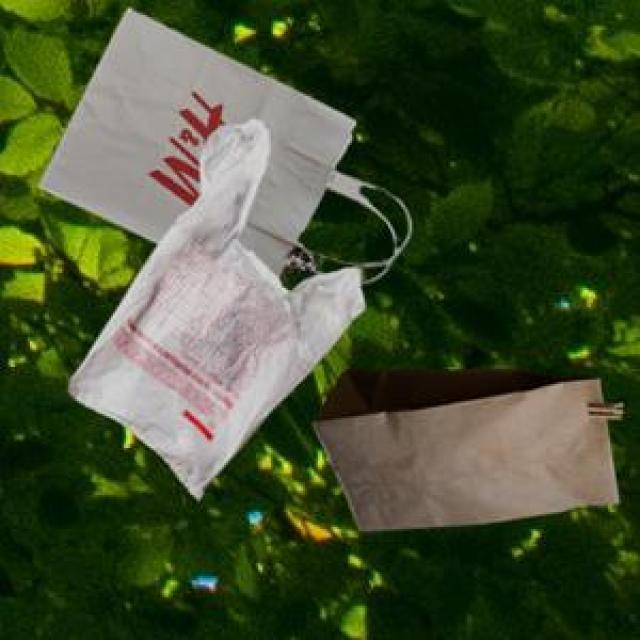paper: (34, 4, 399, 273), (309, 365, 619, 527)
